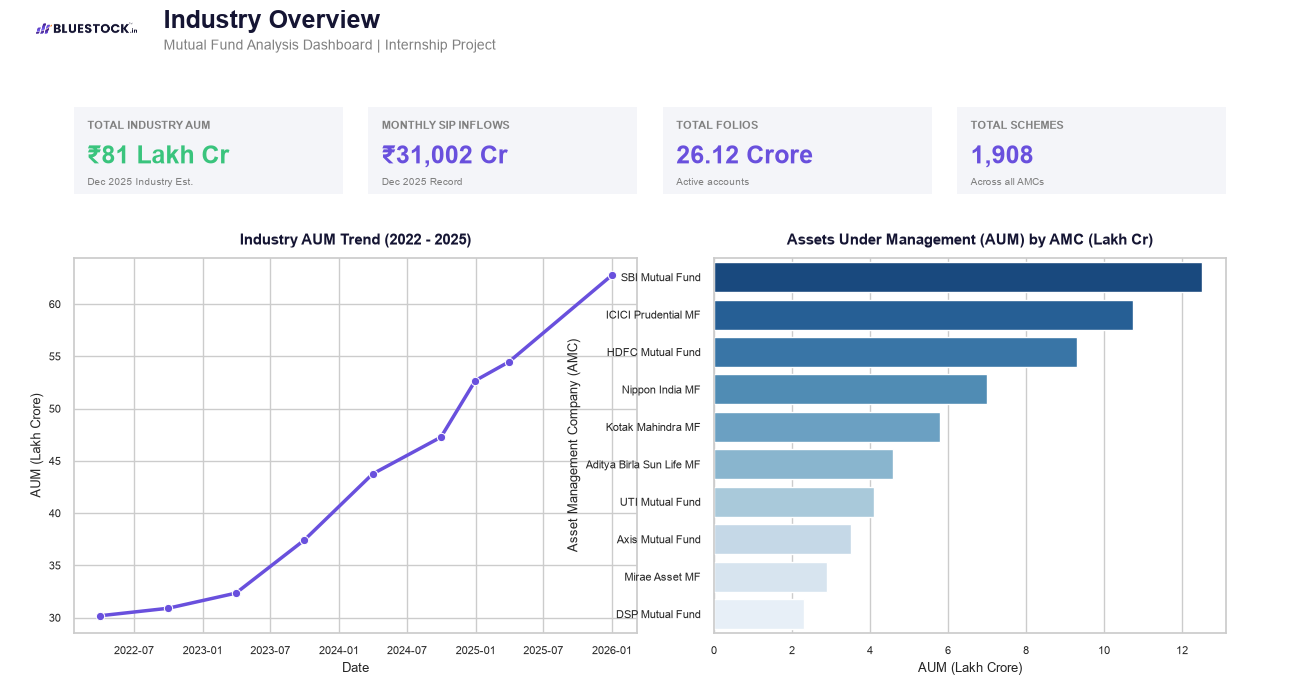

What the dashboard file says about the page in this screenshot:
{"tool":"powerbi","page":{"name":"Industry Overview","canvas":[1280,720],"ordinal":0},"visuals":[{"type":"card","fields":{"Values":["dim_fund.Total AUM"]},"box":[50,50,250,100]},{"type":"card","fields":{"Values":["dim_fund.SIP Inflows"]},"box":[350,50,250,100]},{"type":"card","fields":{"Values":["dim_fund.Total Folios"]},"box":[650,50,250,100]},{"type":"card","fields":{"Values":["dim_fund.Total Schemes"]},"box":[950,50,250,100]},{"type":"lineChart","fields":{"Category":["fact_aum.date"],"Y":["fact_aum.AUM Lakh Crore"]},"box":[50,180,570,480]},{"type":"barChart","fields":{"Category":["fact_aum.fund_house"],"Y":["fact_aum.AUM Lakh Crore"]},"box":[650,180,580,480]}]}

Visuals, with their boxes on the page's 1280x720 design canvas (x1, y1, x2, y2). These are canvas units, not pixel positions in the 1300x685 screenshot, which may show the page scaled, cropped or inside an application window:
card - dim_fund.Total AUM: 50,50,300,150
card - dim_fund.SIP Inflows: 350,50,600,150
card - dim_fund.Total Folios: 650,50,900,150
card - dim_fund.Total Schemes: 950,50,1200,150
lineChart - fact_aum.date x fact_aum.AUM Lakh Crore: 50,180,620,660
barChart - fact_aum.fund_house x fact_aum.AUM Lakh Crore: 650,180,1230,660
